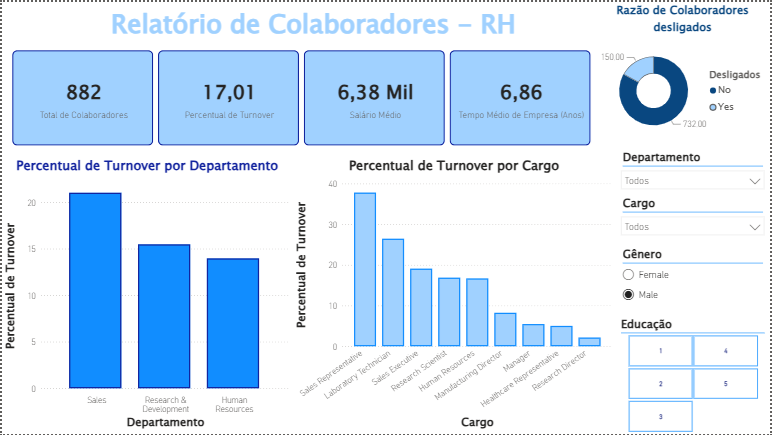

What the dashboard file says about the page in this screenshot:
{"tool":"powerbi","page":{"name":"Visão Executiva","canvas":[1280,720],"ordinal":0},"visuals":[{"type":"cardVisual","fields":{"Data":["Medidas.Total de Funcionarios","Medidas.Percentual de Turnover","Medidas.Salário Médio","Medidas.Tempo Médio de Empresa"]},"box":[0,63.4,1001.8,193.7],"z":0},{"type":"clusteredColumnChart","title":"Percentual de Turnover por Departamento","fields":{"Category":["RH.Department"],"Y":["Medidas.Percentual de Turnover"]},"box":[0,257.1,484.2,463.1],"z":1000},{"type":"donutChart","title":"Razão de Colaboradores desligados","fields":{"Category":["RH.Attrition"],"Y":["Medidas.Total de Funcionarios"]},"box":[987.7,0,292.3,240.2],"z":2000},{"type":"clusteredColumnChart","title":"Percentual de Turnover por Cargo","fields":{"Category":["RH.JobRole"],"Y":["Medidas.Percentual de Turnover"]},"box":[484.2,257.1,537,463.1],"z":3000},{"type":"slicer","fields":{"Values":["RH.Department"]},"box":[1021.3,240.2,258.7,75.6],"z":4000},{"type":"slicer","fields":{"Values":["RH.JobRole"]},"box":[1021.3,317.5,258.7,84],"z":5000},{"type":"slicer","fields":{"Values":["RH.Education"]},"box":[1021.3,520.7,258.7,199.9],"z":6000},{"type":"slicer","fields":{"Values":["RH.Gender"]},"box":[1021.3,401.5,258.7,119.3],"z":7000},{"type":"textbox","box":[176.1,0,704.3,75.7],"z":8000}]}

Visuals, with their boxes in screenshot pixels (x1, y1, x2, y2), scaled from the page's 1280x720 canvas onto the 772x435 screenshot:
cardVisual - Medidas.Total de Funcionarios x Medidas.Percentual de Turnover: (left=0, top=38, right=604, bottom=155)
"Percentual de Turnover por Departamento" clusteredColumnChart: (left=0, top=155, right=292, bottom=434)
"Razão de Colaboradores desligados" donutChart: (left=596, top=0, right=771, bottom=145)
"Percentual de Turnover por Cargo" clusteredColumnChart: (left=292, top=155, right=616, bottom=434)
slicer - RH.Department: (left=616, top=145, right=771, bottom=191)
slicer - RH.JobRole: (left=616, top=192, right=771, bottom=243)
slicer - RH.Education: (left=616, top=315, right=771, bottom=434)
slicer - RH.Gender: (left=616, top=243, right=771, bottom=315)
textbox: (left=106, top=0, right=531, bottom=46)
